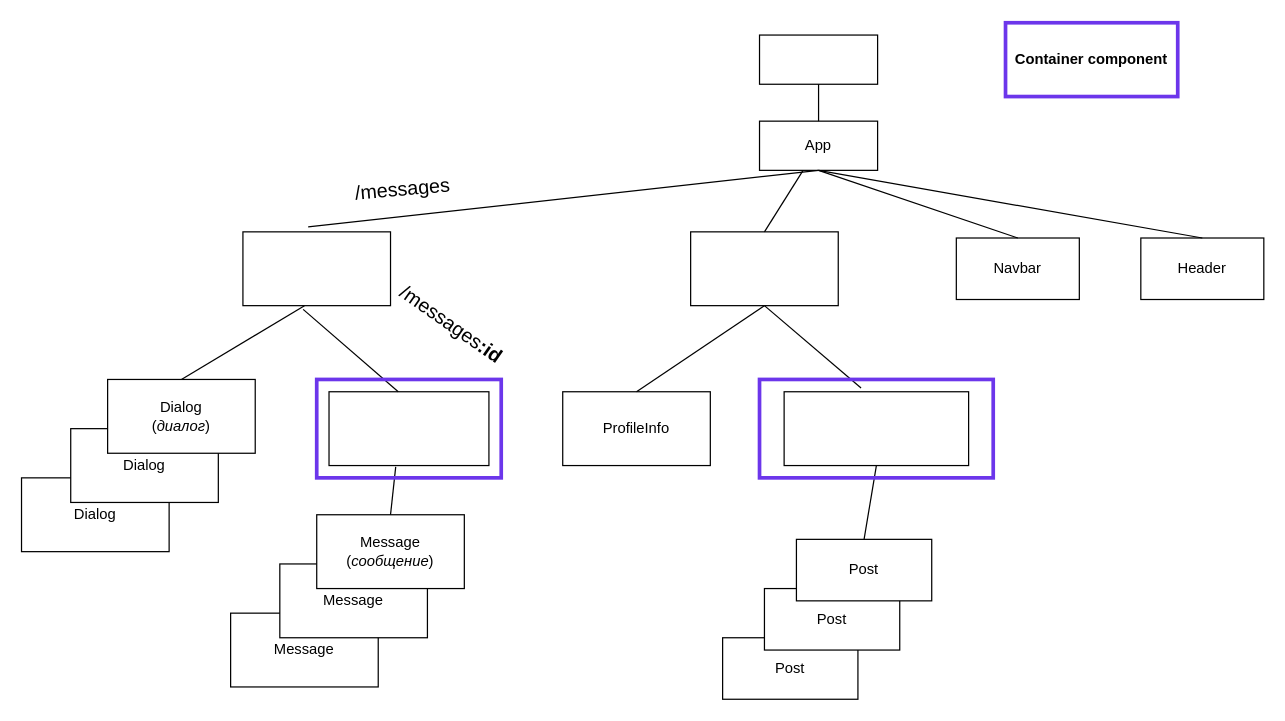
This 1285x721 diagram has some shape labels left out. Here are the shapes that lost their labels. From the top down, the centre of each, then its label:
point 818,59: main
point 316,268: Messages
point 763,268: Profile
point 408,428: MessagessChat ( чат с сообщениями )
point 876,428: MyPosts ( Посты и добавление новых постов )
